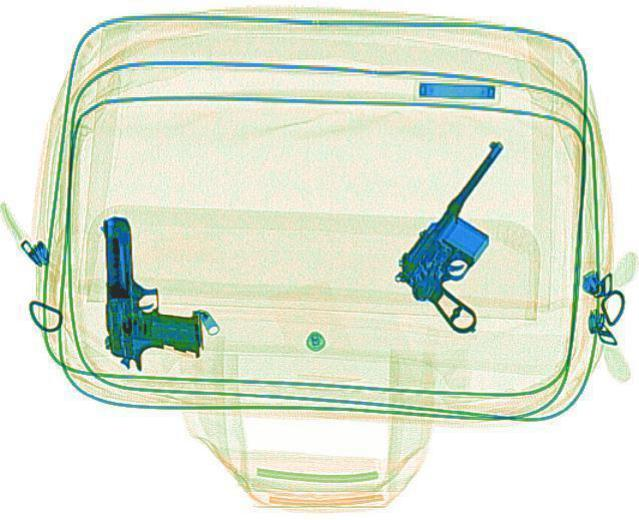Gun: (365, 137, 593, 335), (100, 212, 199, 368)
